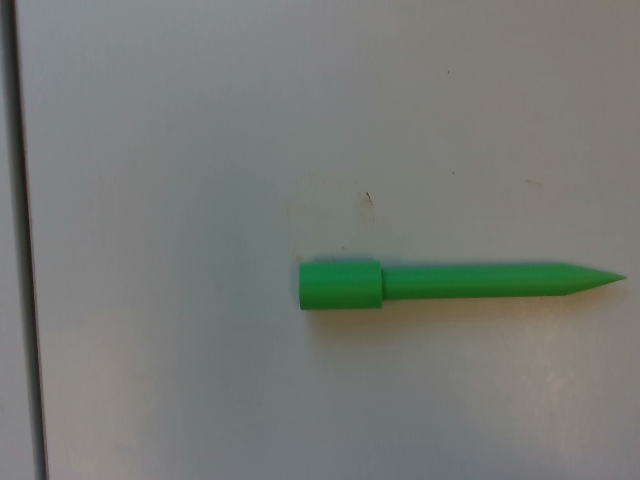Probe: (293, 251, 632, 319)
